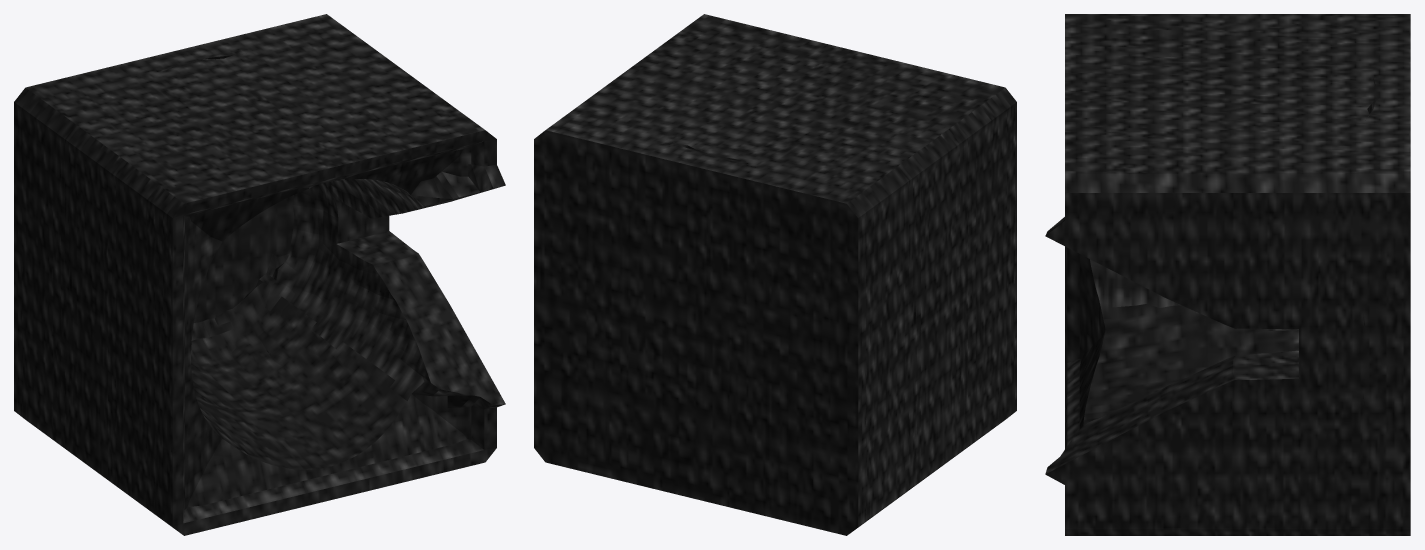
The model's file is cup_case.obj.
The picture shows the model from 3 angles, left to right: view 1: azimuth 30°, elevation 25°; view 2: azimuth 150°, elevation 25°; view 3: azimuth 270°, elevation 25°; orthographic projection. The views are drawn at different scales.
Visible parts, largest first — view 1: Cube_Cube.003; view 2: Cube_Cube.003; view 3: Cube_Cube.003.
Boxes of the visible parts, <box> form: Cube_Cube.003: <box>14,14,505,535</box>; Cube_Cube.003: <box>534,14,1016,535</box>; Cube_Cube.003: <box>1045,14,1410,535</box>.
Size of the model in its own units: 0.124 by 0.122 by 0.1112.
1 material, 1 textured.
